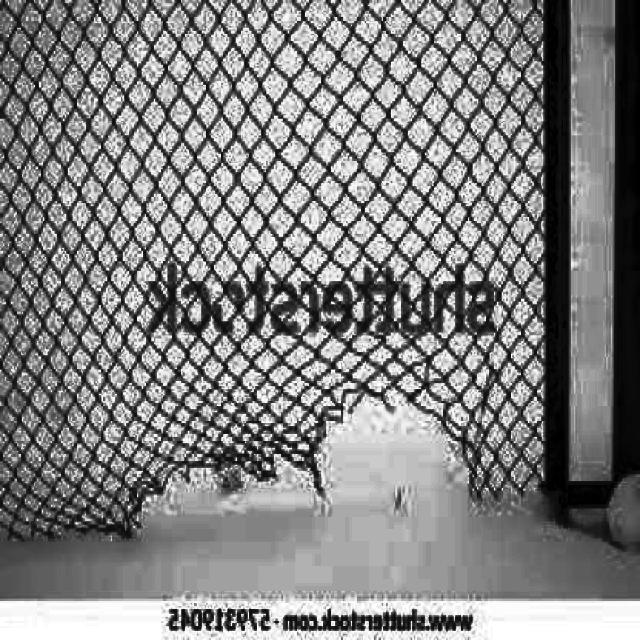anomaly-fence: (6, 378, 556, 550)
